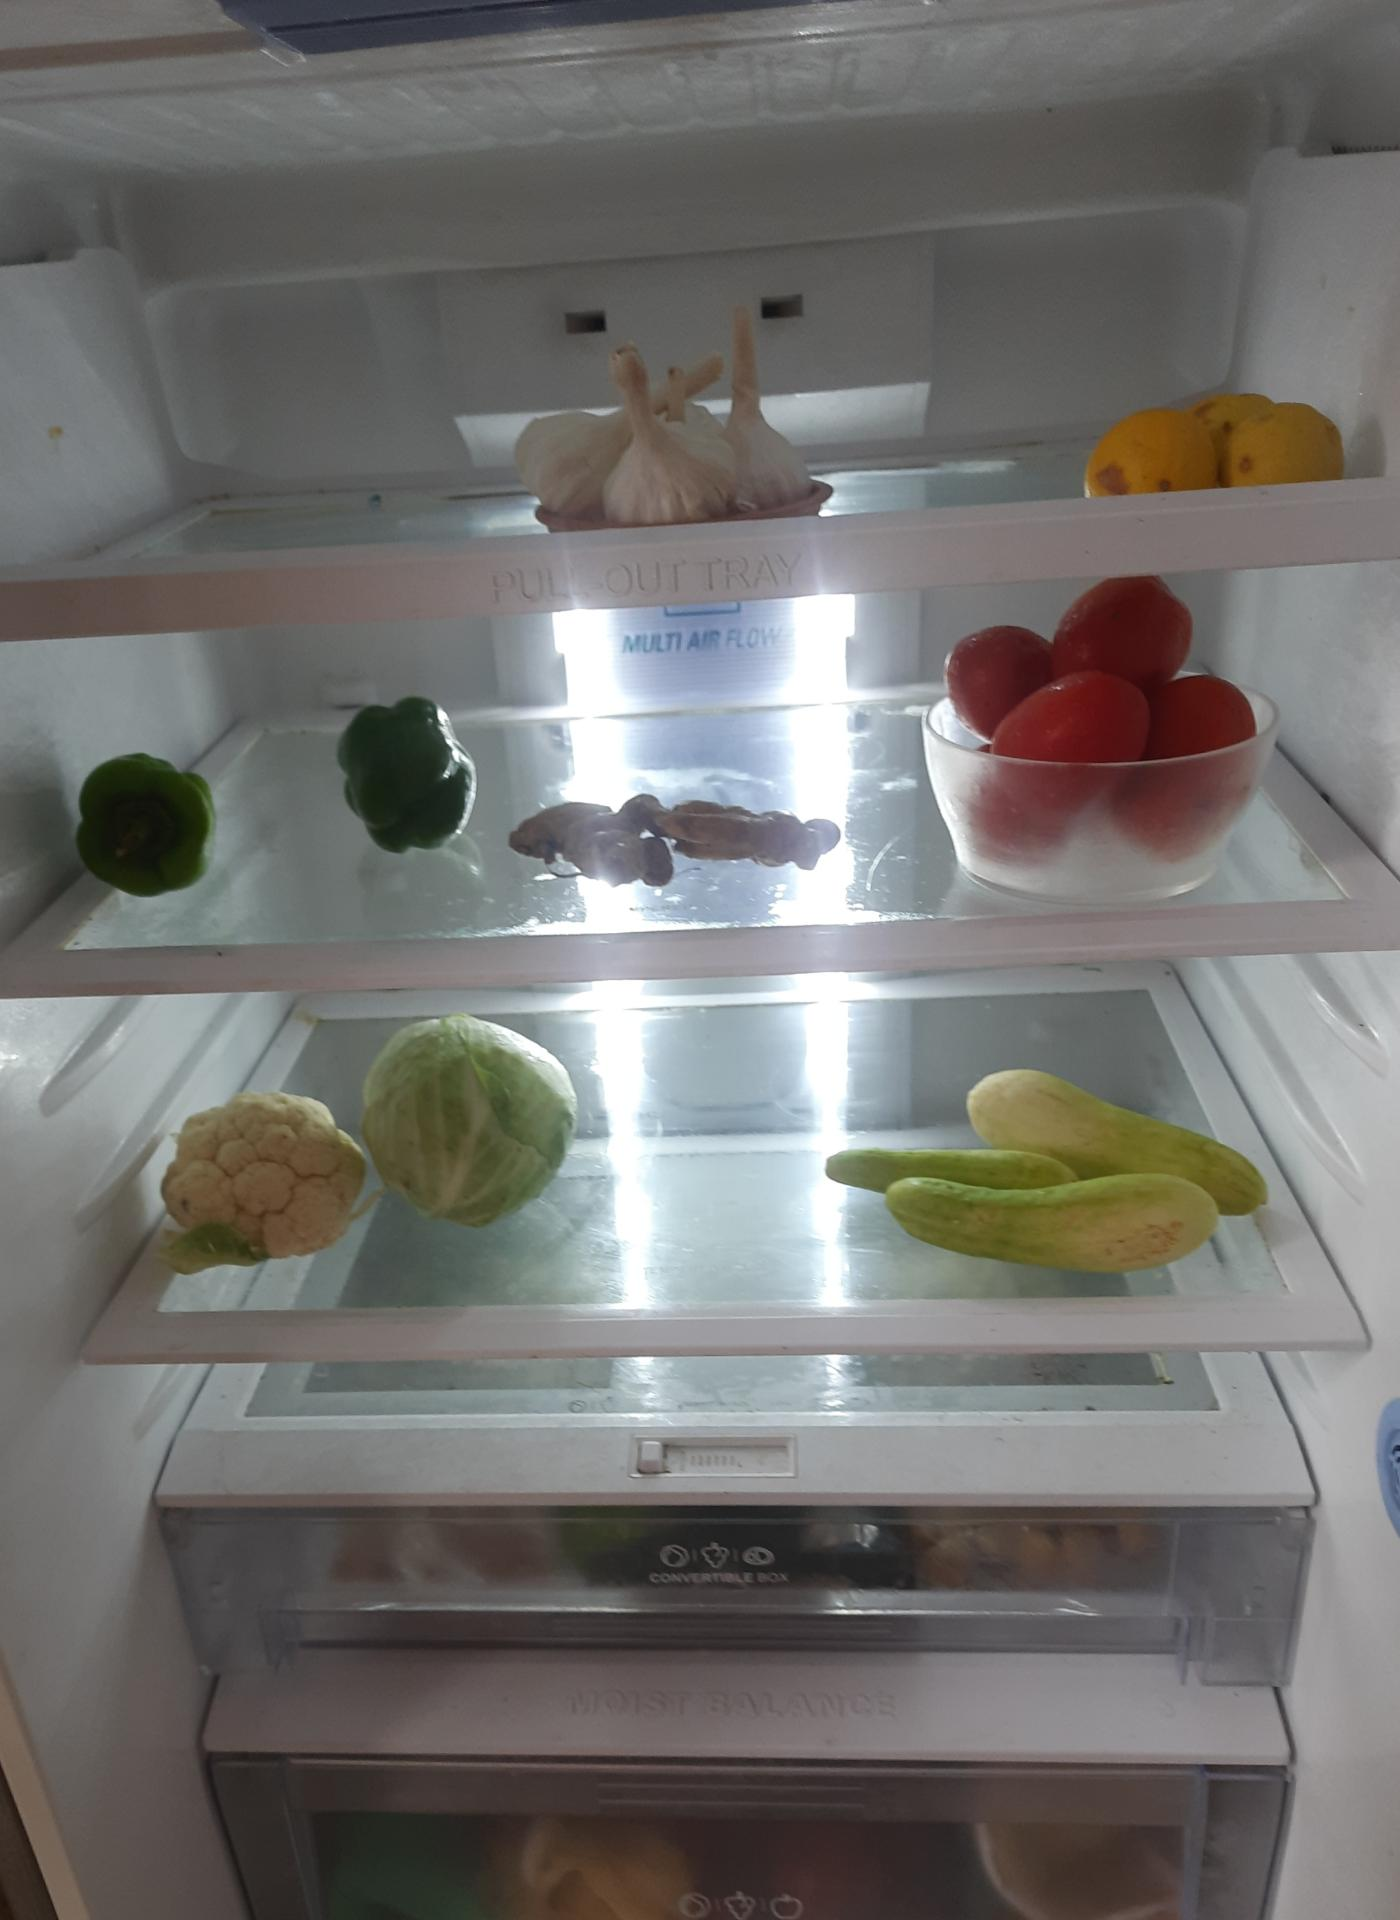cabbage: (373, 1005, 590, 1245)
capsicum: (72, 742, 227, 902), (334, 683, 477, 853)
cauliflower: (163, 1091, 370, 1273)
cucumber: (832, 1064, 1275, 1261)
garlic: (516, 289, 823, 529)
lemon: (1072, 370, 1354, 504)
tomato: (951, 563, 1273, 856)
